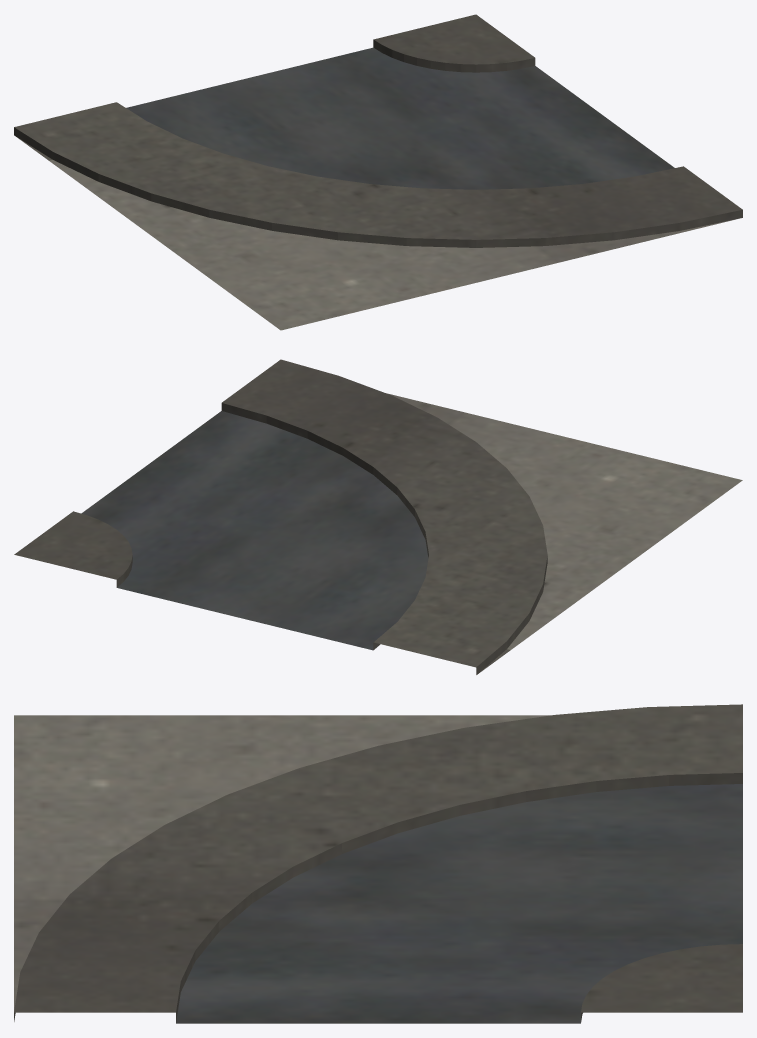
Rendered from roadCurve.fbx.
The picture shows the model from 3 angles, top to bottom: view 1: azimuth 30°, elevation 25°; view 2: azimuth 150°, elevation 25°; view 3: azimuth 270°, elevation 25°; orthographic projection. The views are drawn at different scales.
Visible parts, largest first — view 1: roadCurve; view 2: roadCurve; view 3: roadCurve.
Boxes of the visible parts, x1,y1,x2,y2 form: roadCurve: (14, 14, 742, 330); roadCurve: (14, 359, 742, 674); roadCurve: (14, 704, 742, 1023).
Size of the model in its own units: 900 by 15 by 900.
